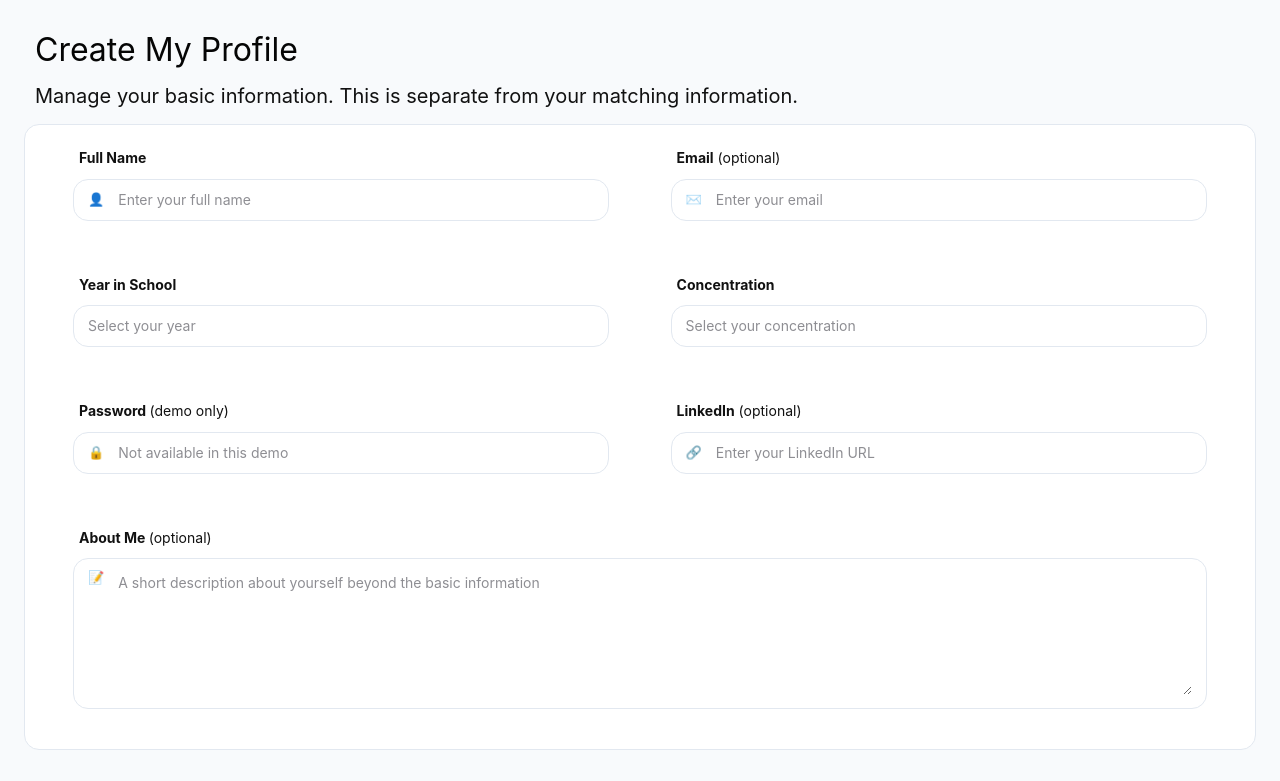
it: StudentProfile › omits empty optional fields from the completed profile
Type "Casey Student" into the field labelled "Full Name" at (355, 200), box [116,180,594,220]
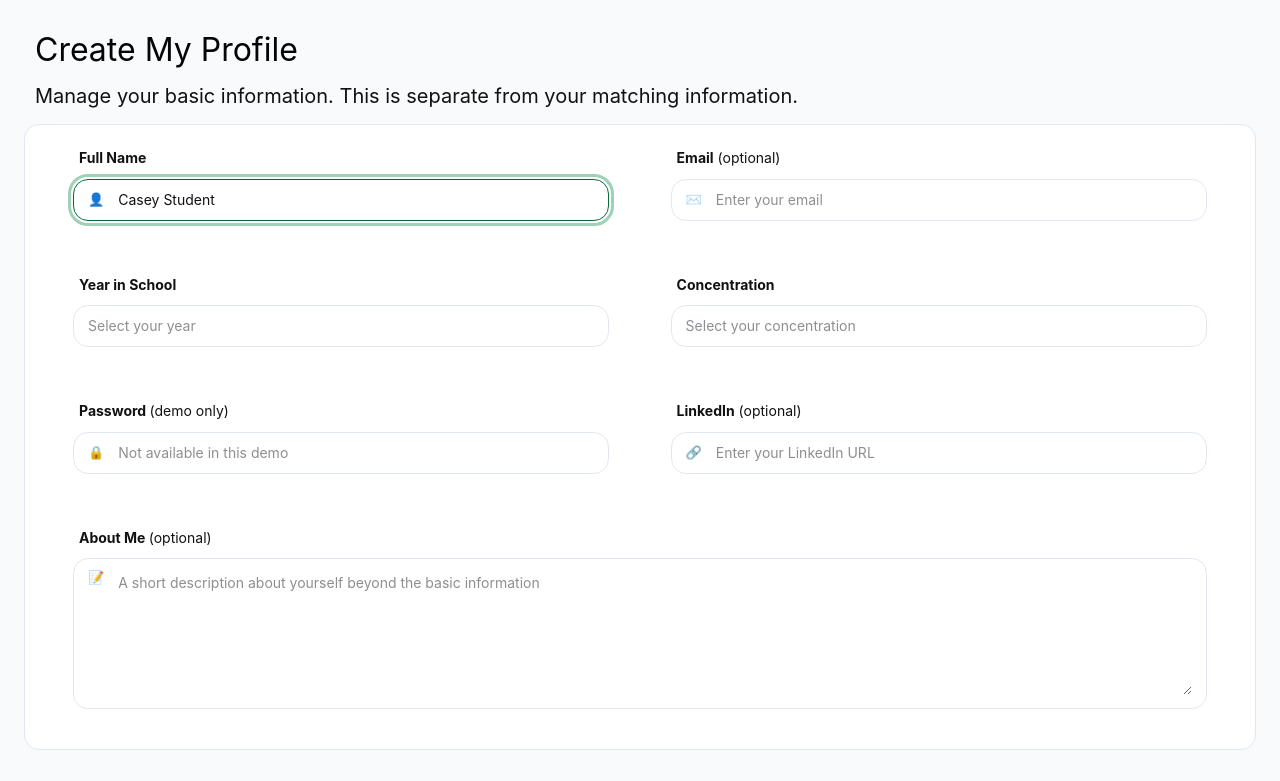
Select "Junior" in the dropdown labelled "Year in School" at (341, 326), box [88,306,594,346]
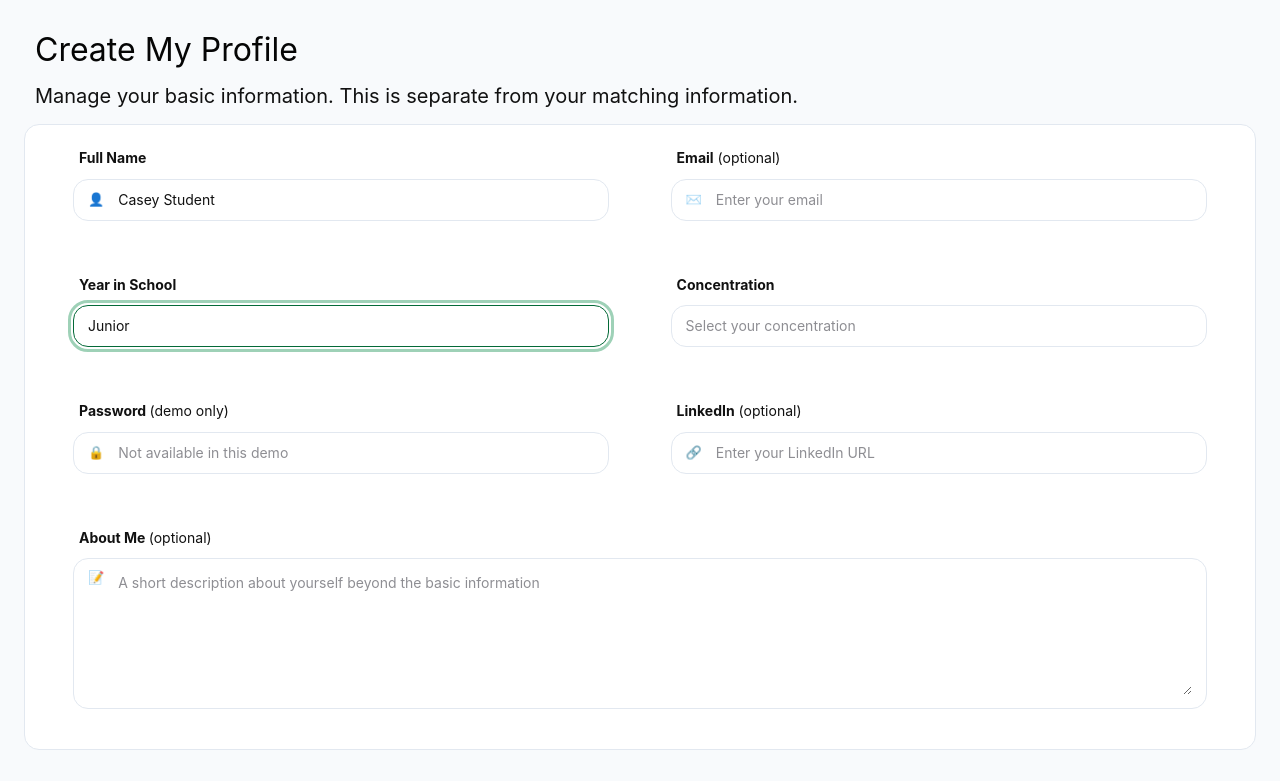
Select "Computer Science" in the dropdown labelled "Concentration" at (939, 326), box [686,306,1192,346]
(page scrolled)
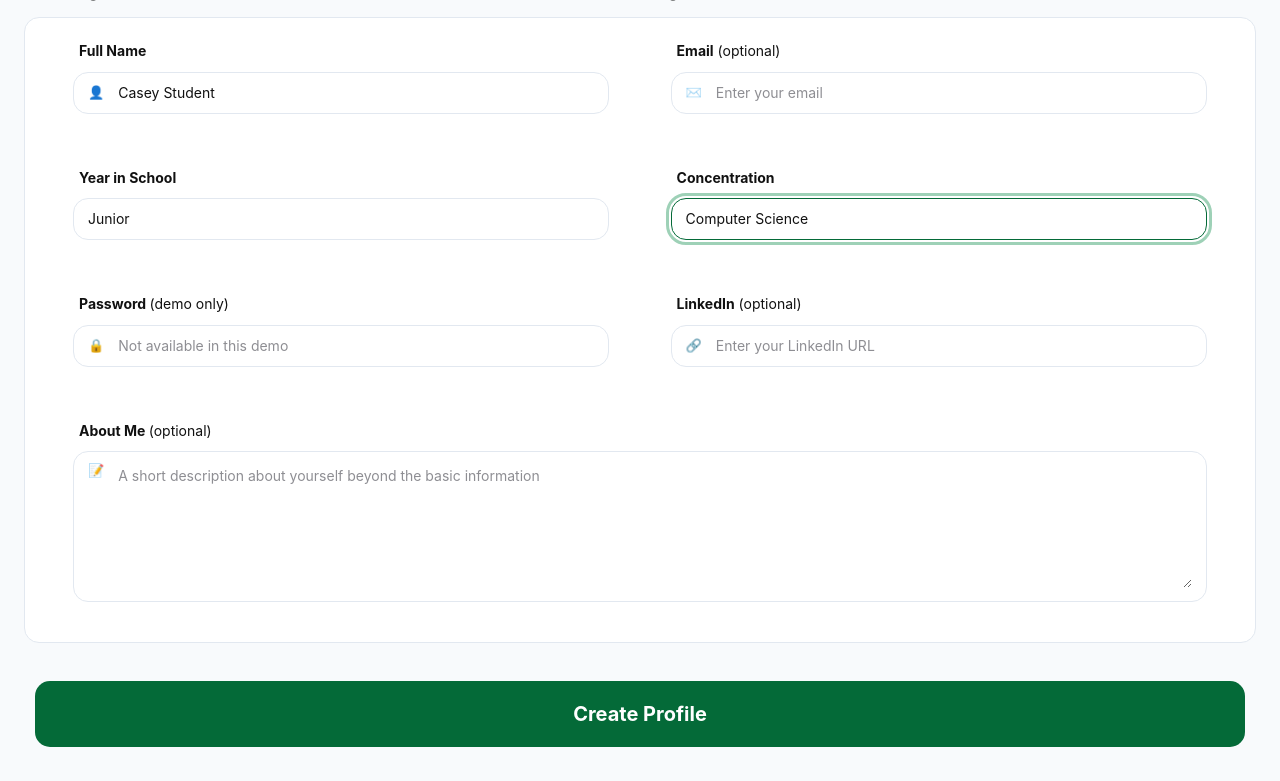
Click the button "Create Profile" at (640, 714), box [35,681,1245,747]
(page scrolled)
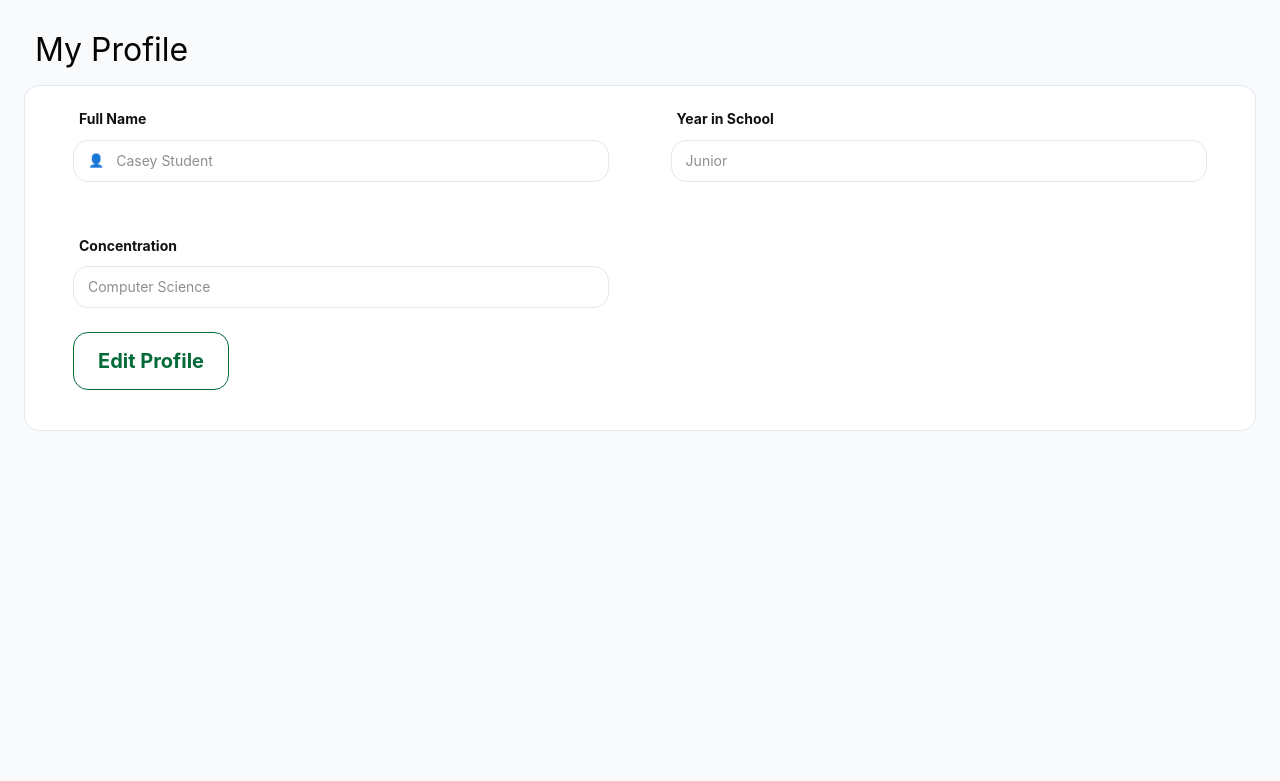
Expected: the heading "My Profile" is shown, [35,30,188,69]
Expected: the text "About Me (optional)" is gone
